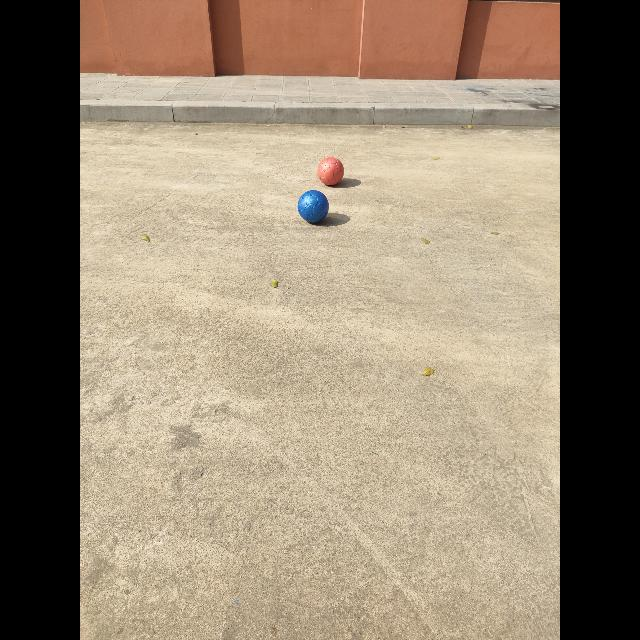B: (298, 190, 329, 222)
R: (318, 158, 344, 185)
